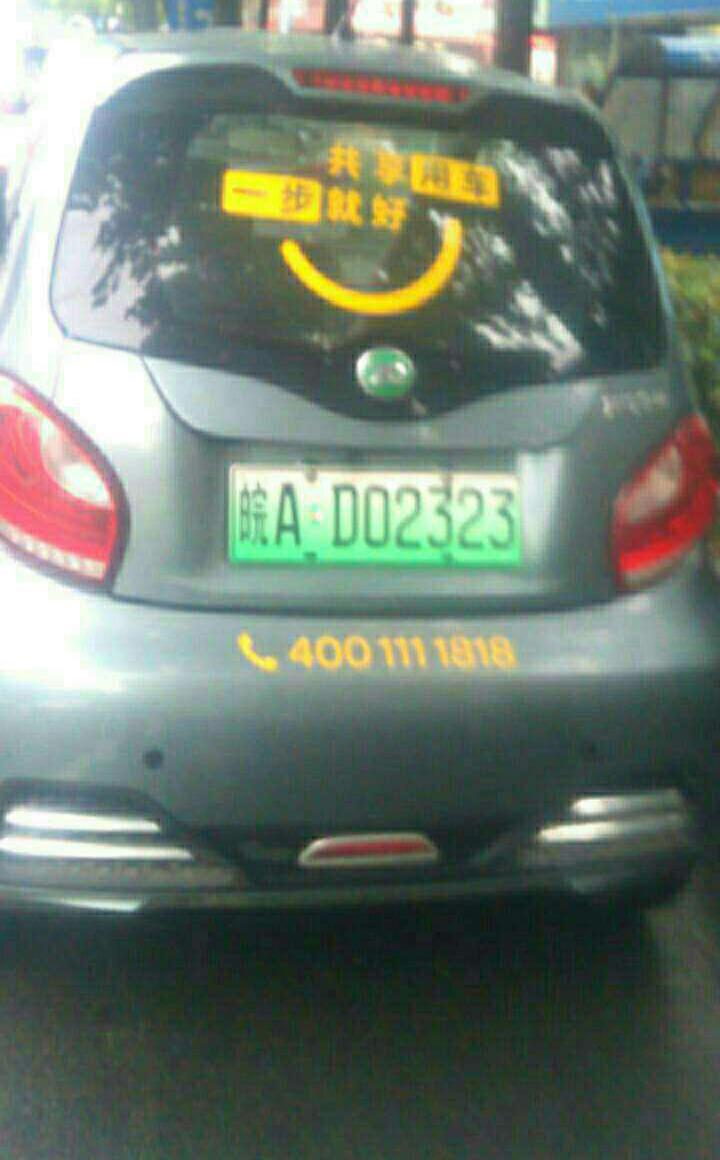car_id: (230, 467, 524, 562)
